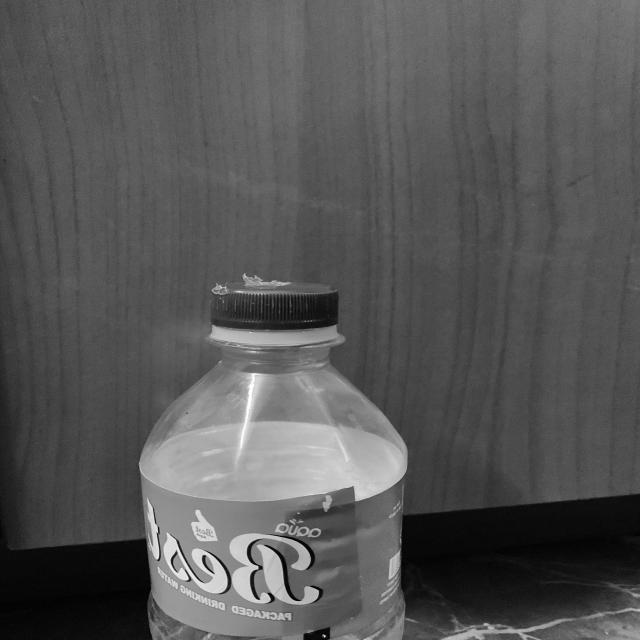Good-cap-Df0S: (205, 278, 347, 345)
